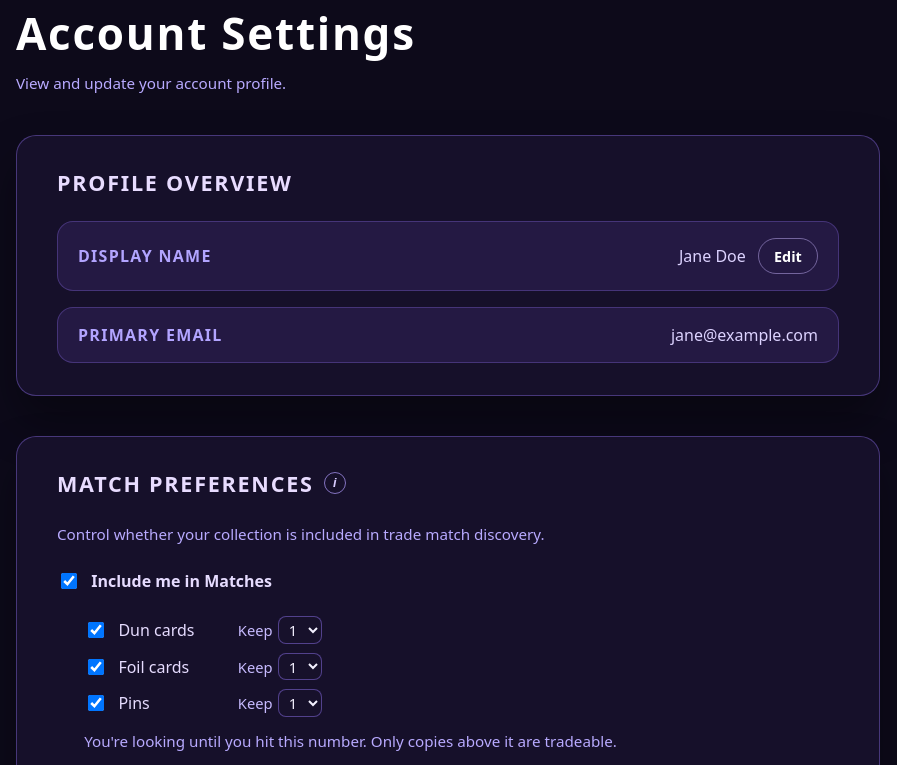
Scenario: AccountPage › exposes matching help copy from an info bubble near match preferences
This screenshot has width=897, height=765.
Click the button named "About matching settings" at {"x": 335, "y": 483}, box [324,472,346,494]
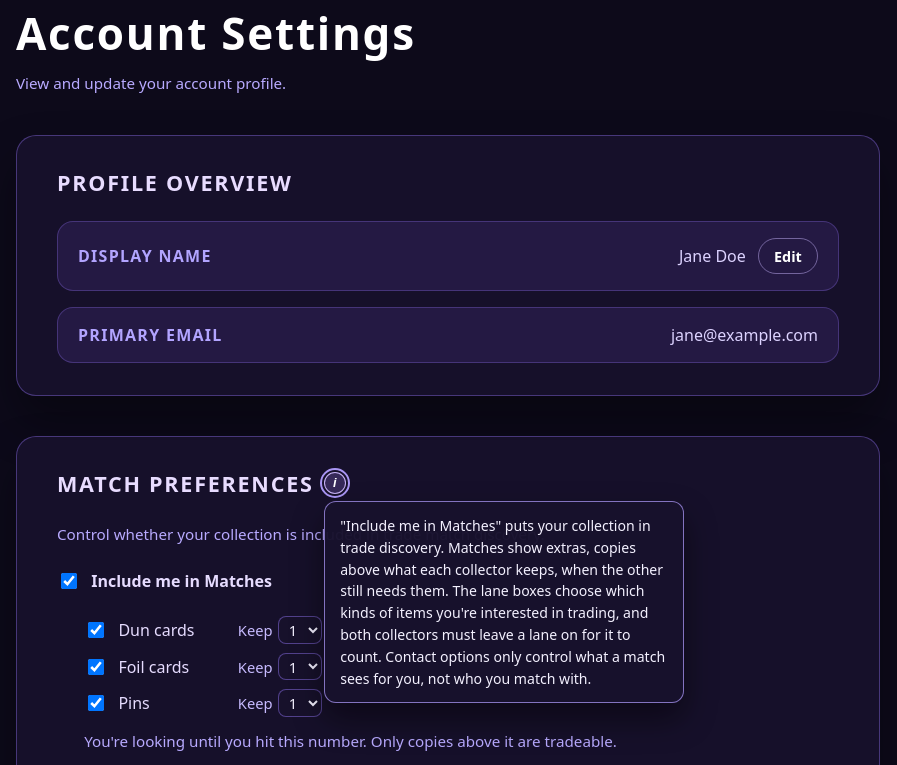
Expected: the text "\"Include me in Matches\" puts your collection in trade discovery. Matches show extras, copies above what each collector k" is shown, [340,516,665,688]
